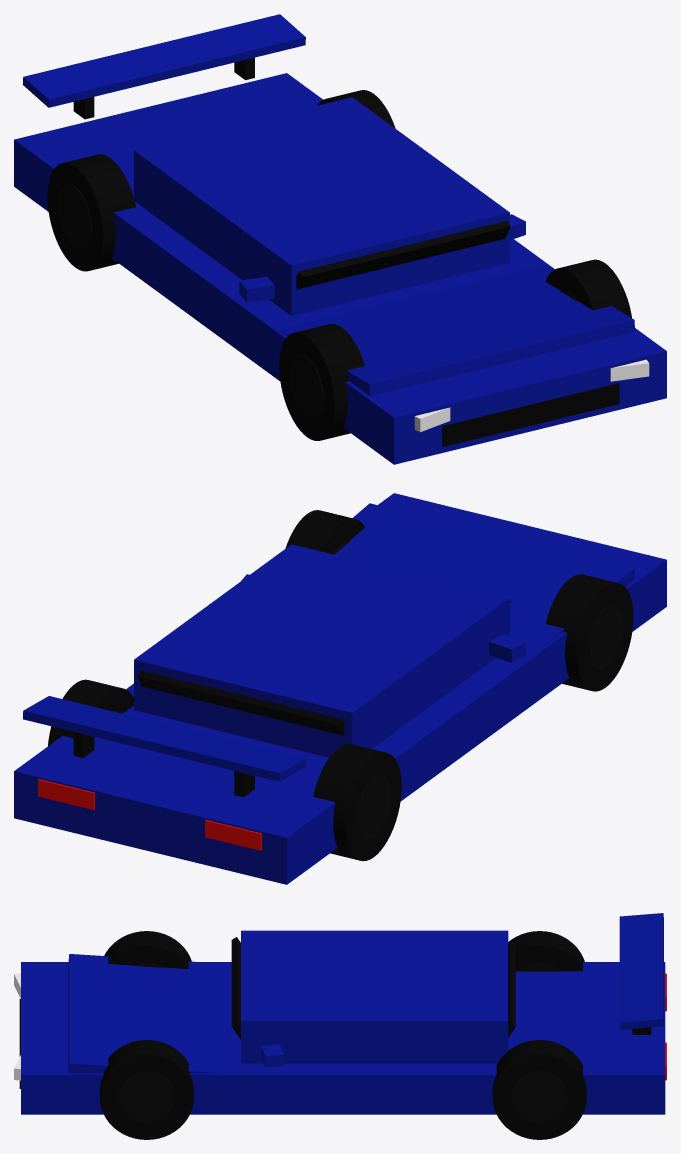
3 renders of one model, top to bottom at view 1: azimuth 30°, elevation 25°; view 2: azimuth 150°, elevation 25°; view 3: azimuth 270°, elevation 25°, orthographic. The views are drawn at different scales.
Visible parts, largest first — view 1: part_20, part_22, part_21, part_9, part_15, part_17, part_6, part_19, part_16, part_13, part_11, part_14 (+1 smaller); view 2: part_20, part_22, part_21, part_9, part_15, part_17, part_18, part_16, part_14, part_11, part_13, part_3 (+2 smaller); view 3: part_22, part_20, part_21, part_14, part_16, part_9, part_17, part_10, part_12, part_15, part_19, part_18 (+1 smaller).
Boxes of the visible parts, x1,y1,x2,y2 form: part_20: (134, 97, 509, 315); part_22: (14, 73, 666, 464); part_21: (279, 265, 634, 396); part_9: (22, 14, 305, 107); part_15: (47, 154, 135, 271); part_17: (279, 324, 364, 440); part_6: (442, 383, 619, 446); part_19: (296, 220, 510, 289); part_16: (545, 259, 631, 317); part_13: (289, 354, 323, 419); part_11: (58, 184, 91, 249); part_14: (317, 90, 395, 128); part_20: (134, 544, 509, 757); part_22: (14, 493, 666, 884); part_21: (334, 503, 634, 645); part_9: (23, 696, 305, 781); part_15: (313, 744, 401, 861); part_17: (545, 574, 633, 691); part_18: (138, 670, 344, 735); part_16: (285, 510, 364, 554); part_14: (48, 679, 133, 745); part_11: (357, 774, 391, 839); part_13: (589, 604, 622, 669); part_3: (205, 820, 261, 850); part_22: (21, 962, 665, 1114); part_20: (241, 930, 508, 1063); part_21: (68, 954, 223, 1073); part_14: (492, 1040, 586, 1139); part_16: (99, 1040, 193, 1139); part_9: (619, 913, 663, 1029); part_17: (104, 931, 191, 968); part_10: (511, 1071, 567, 1123); part_12: (118, 1071, 174, 1123); part_15: (508, 931, 584, 971); part_19: (231, 937, 240, 1039); part_18: (508, 940, 515, 1037).
Size of the model in its own units: 0.45 by 0.1894 by 1.
